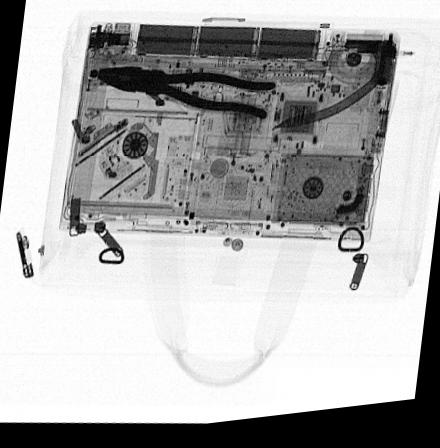Pliers: (95, 68, 278, 130)
